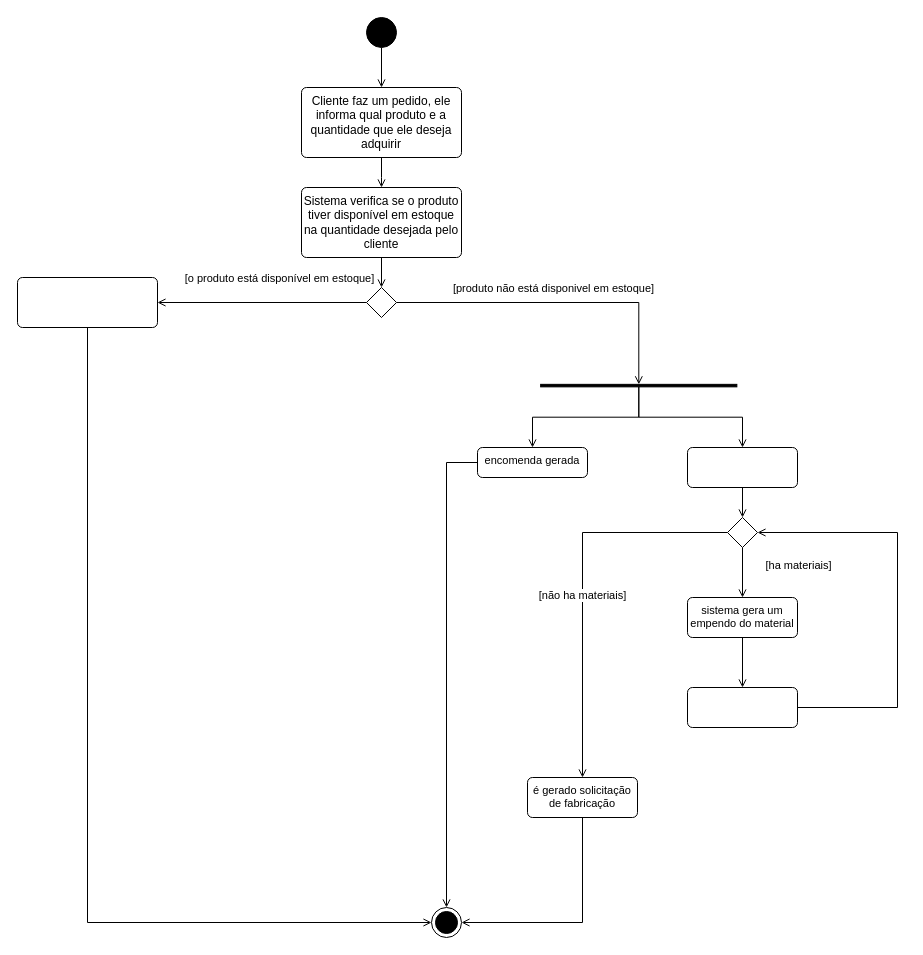
Some shapes in this 923 by 955 pixel diagram are drawn without their labels. Each missing label, with the centre of its shape:
"sistema atualiza estoque" belongs at pixel 742 707.
"Sistema fatura pedido, gerando uma nota fiscal" belongs at pixel 87 302.
"sistema verifica o material do produto" belongs at pixel 742 467.
